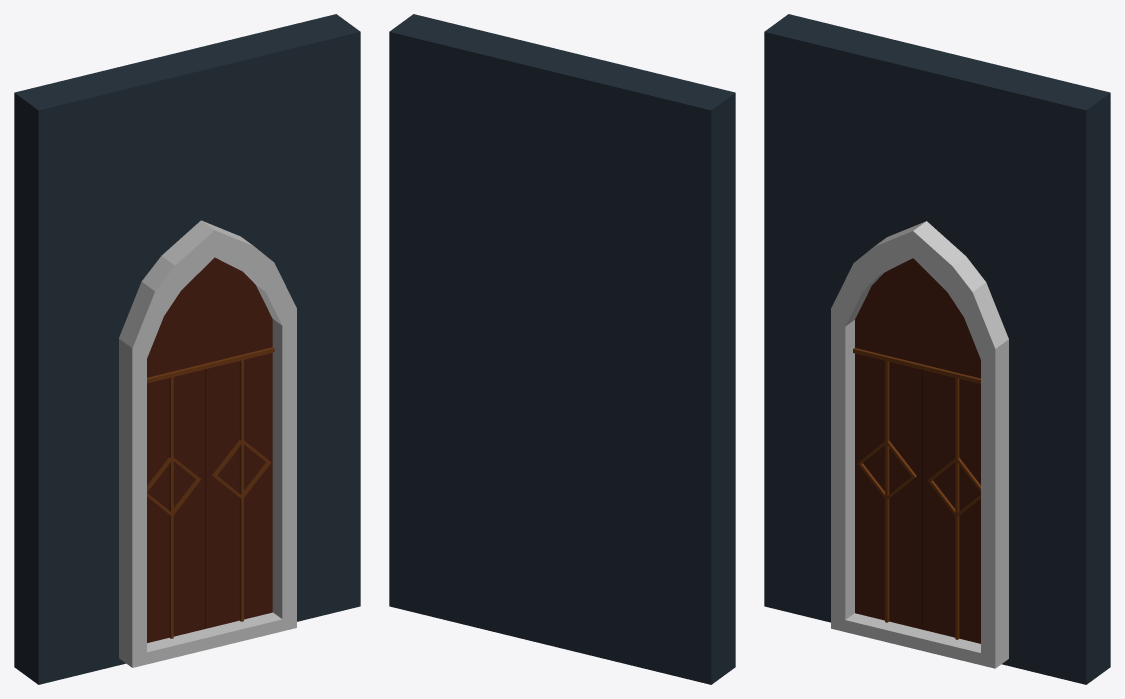
Rendered from Back_two_side_face_door_fixed.glb.
3 views of the same model, side by side, from view 1: azimuth 30°, elevation 25°; view 2: azimuth 150°, elevation 25°; view 3: azimuth 330°, elevation 25° (orthographic).
Visible parts, largest first — view 1: Cube, frame.001; view 2: Cube; view 3: Cube, frame.001.
Part boxes in pixels (<box>): Cube: <box>14,14,360,684</box>; frame.001: <box>119,220,296,667</box>; Cube: <box>389,14,735,684</box>; Cube: <box>764,14,1110,684</box>; frame.001: <box>831,221,1008,668</box>.
Bounding box in the file's own units: 5.91 × 10.07 × 1.21.
